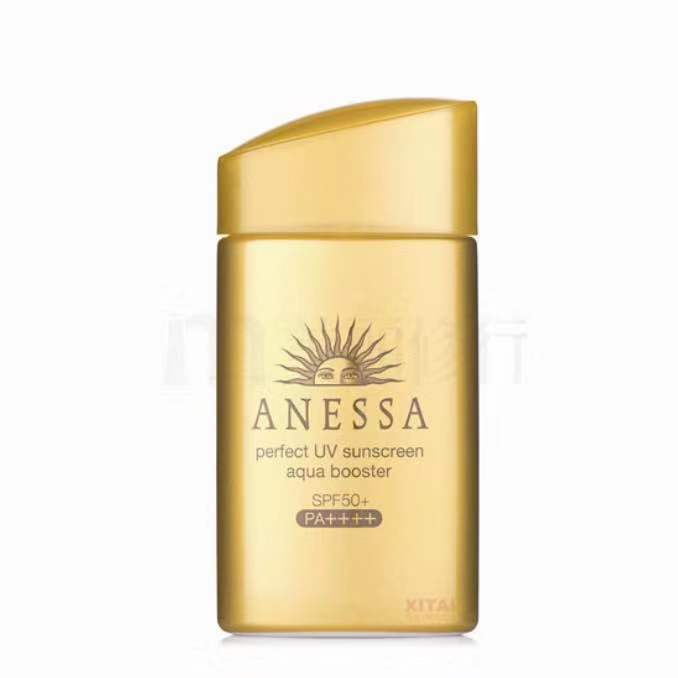cosmetic: (212, 98, 480, 629)
